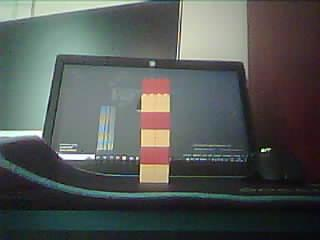lego: (139, 78, 173, 183)
